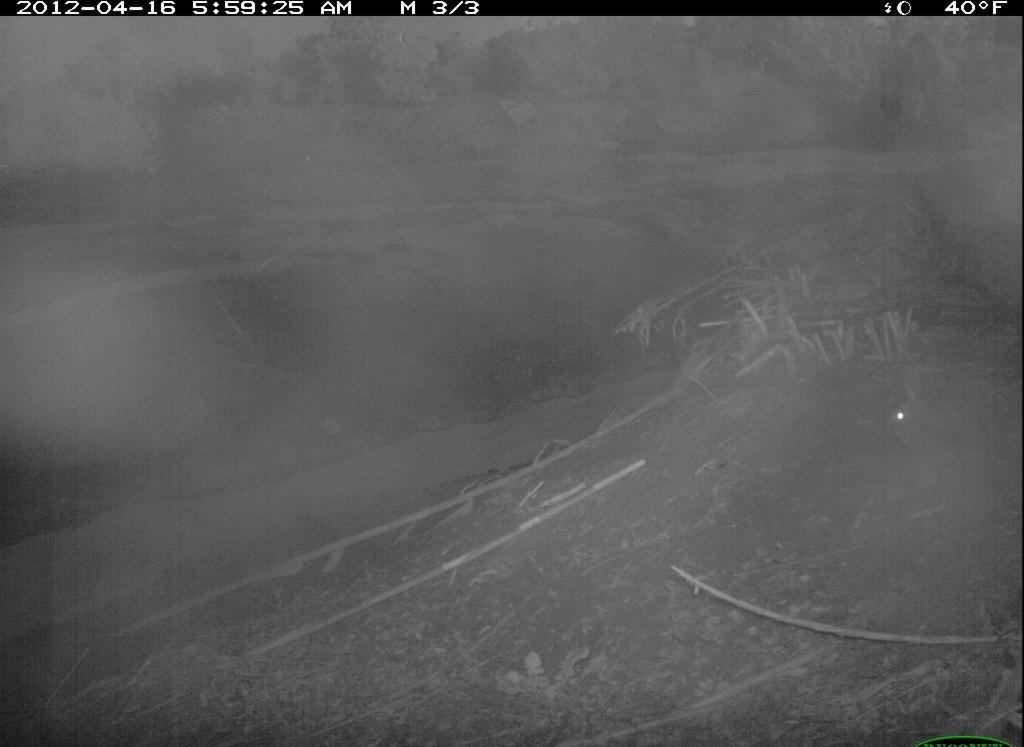rabbit: (884, 350, 1001, 497)
